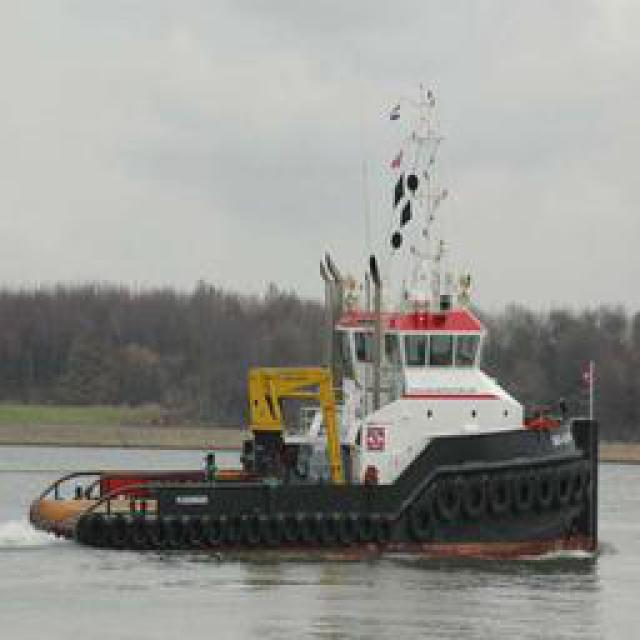Ship: (45, 251, 608, 556)
